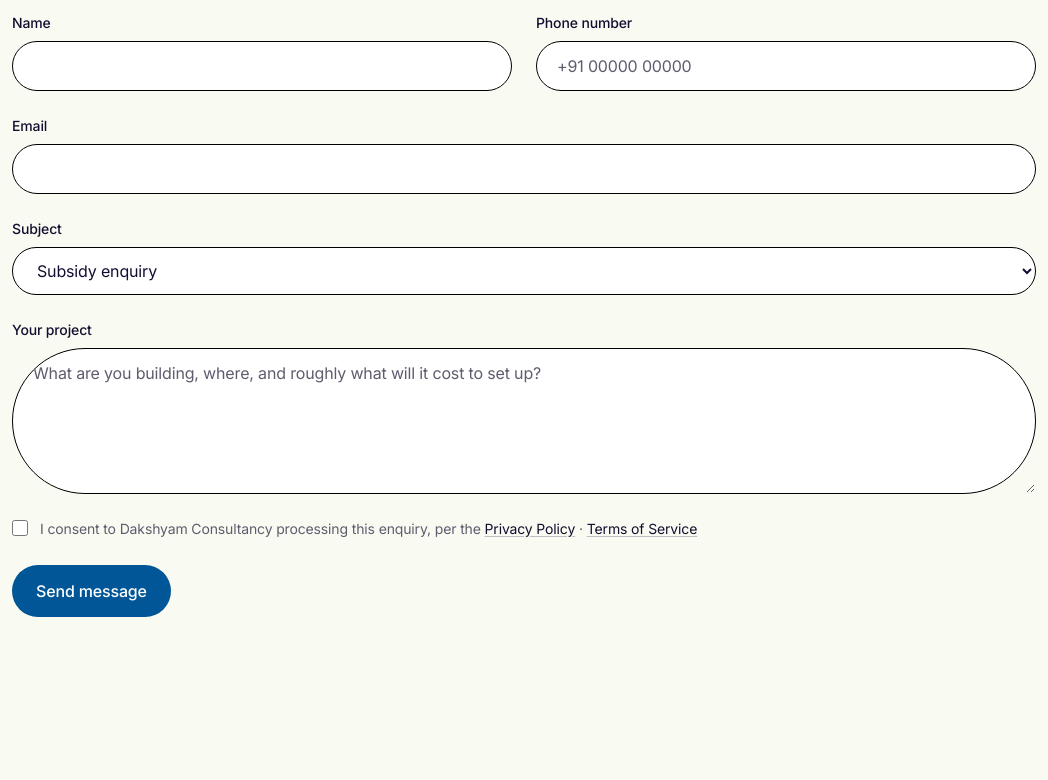
Scenario: ContactForm › shows per-field errors and wires them to their inputs
What coordinates should you click on to do the following:
click the button "Send message"
I would click on:
 (91, 591)
Its box is [12, 565, 171, 617].
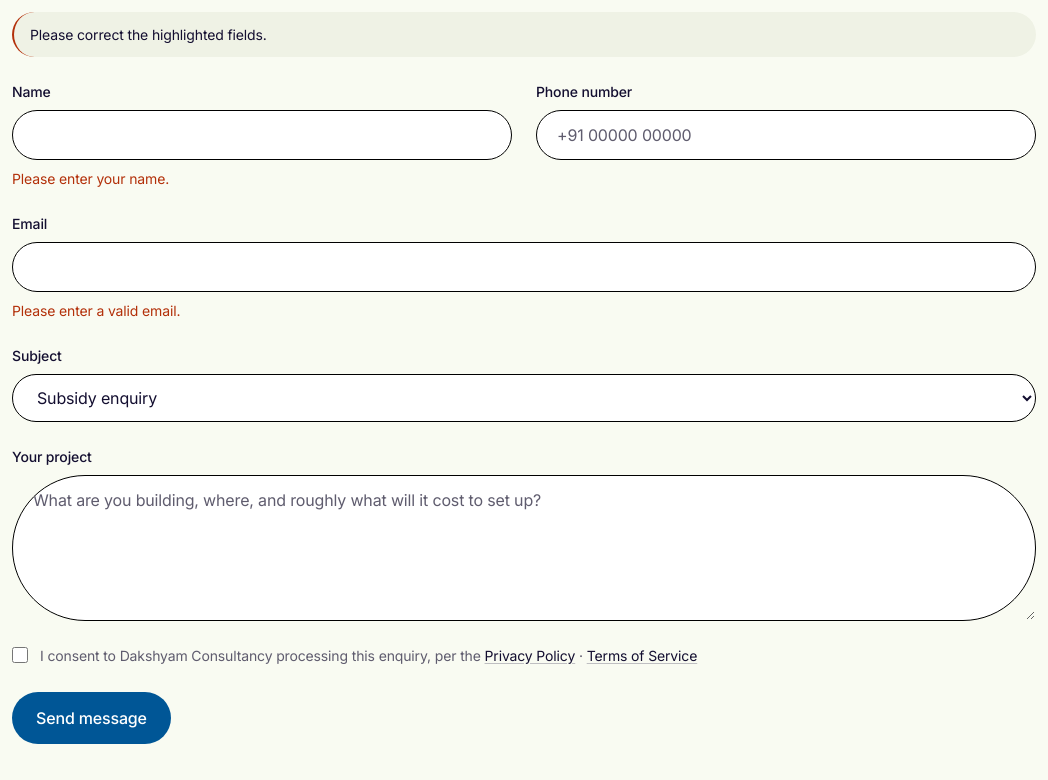
Now the message shows "correct the highlighted", box [30, 26, 267, 43]
